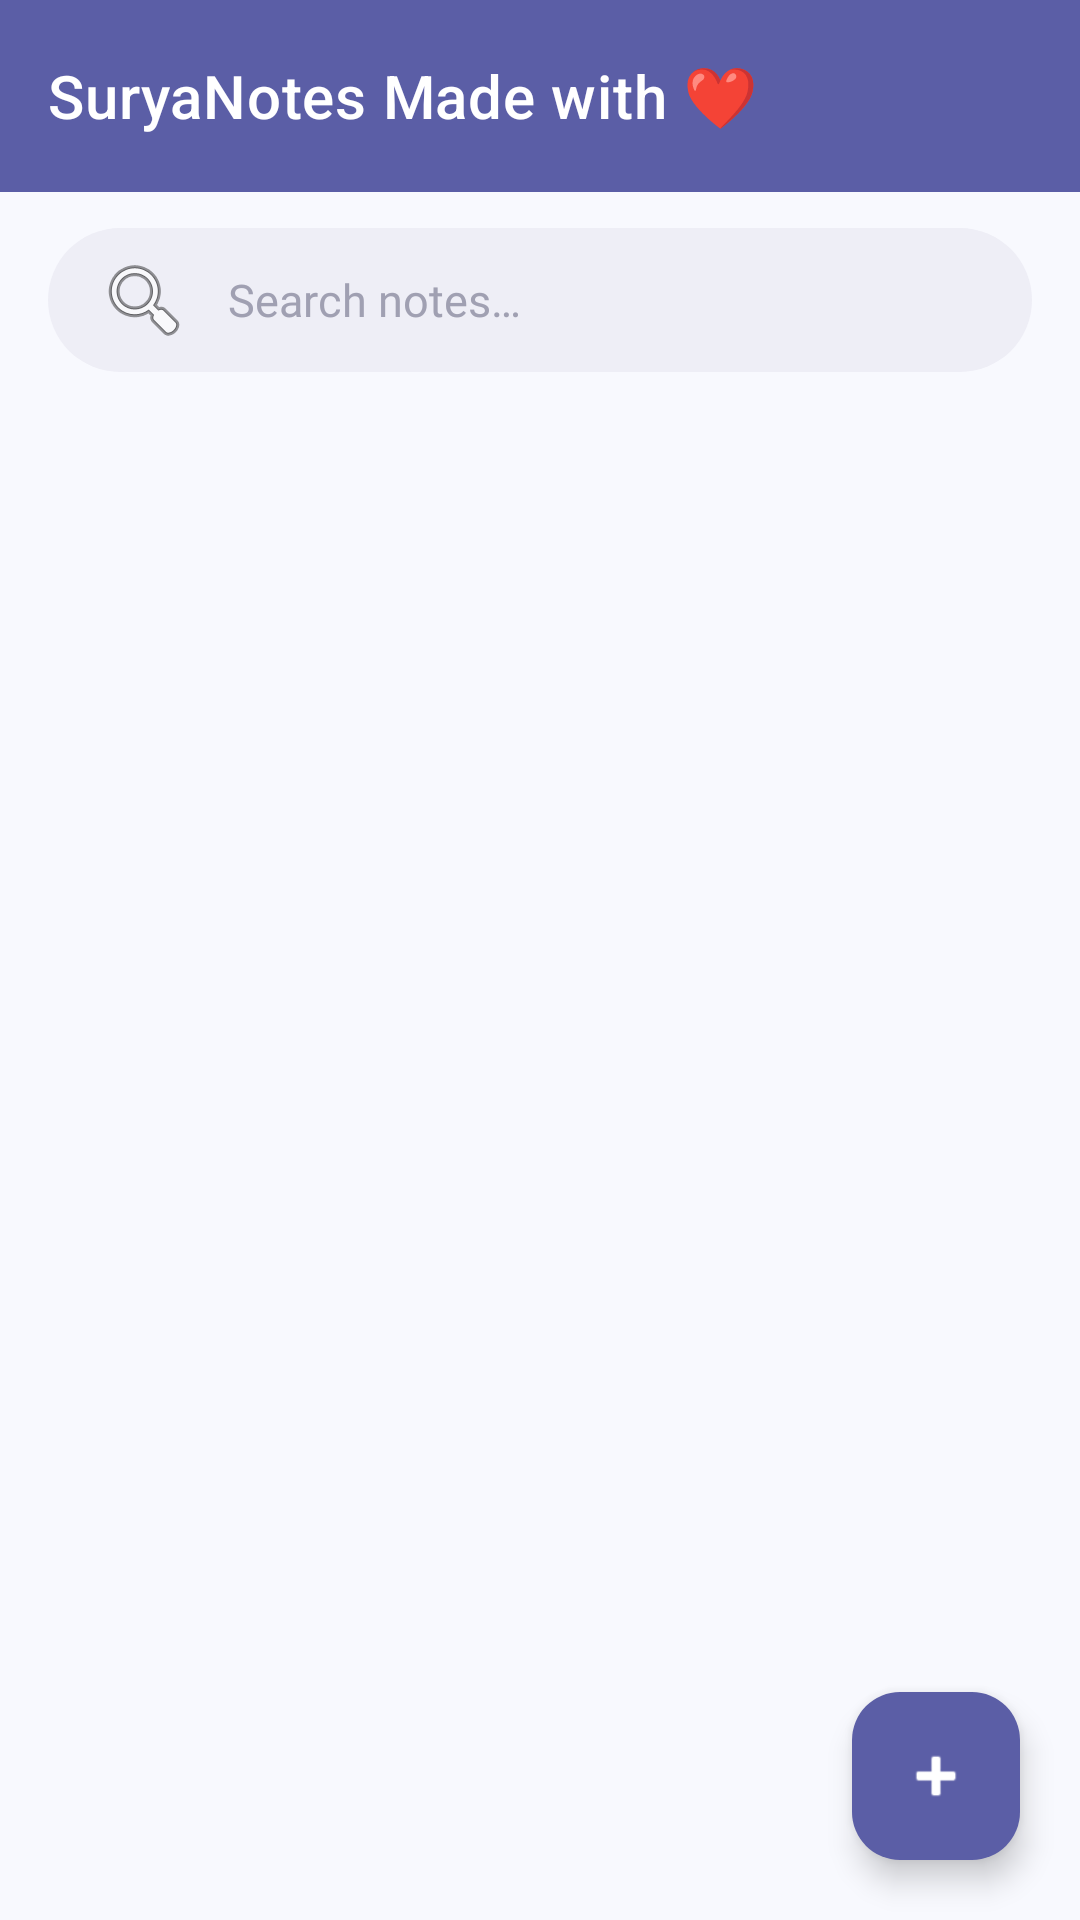

Icon click points for this 1080 x 1920 phone screenshot, format point (x, y):
New Note: point (936, 1776)
